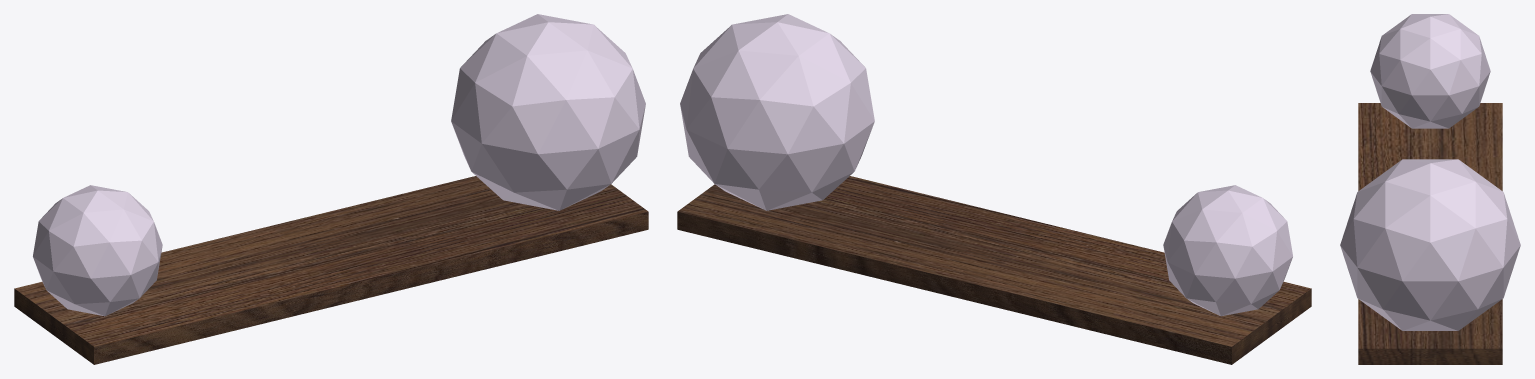
File: plankR.glb
3 renders of one model, left to right at view 1: azimuth 30°, elevation 25°; view 2: azimuth 150°, elevation 25°; view 3: azimuth 270°, elevation 25°, orthographic. The views are drawn at different scales.
Parts seen in each view (by area): view 1: Cube.001, Icosphere.001, Icosphere; view 2: Cube.001, Icosphere.001, Icosphere; view 3: Icosphere.001, Cube.001, Icosphere.
Boxes of the visible parts, x1,y1,x2,y2 form: Cube.001: [14, 176, 648, 364]; Icosphere.001: [451, 14, 645, 210]; Icosphere: [33, 185, 162, 316]; Cube.001: [677, 176, 1311, 364]; Icosphere.001: [680, 14, 874, 210]; Icosphere: [1163, 185, 1292, 316]; Icosphere.001: [1340, 159, 1520, 330]; Cube.001: [1358, 103, 1502, 364]; Icosphere: [1370, 14, 1490, 128].
Bounding box in the file's own units: 2.12 × 0.6655 × 0.6225.
Materials: 2 (1 with a texture image).
